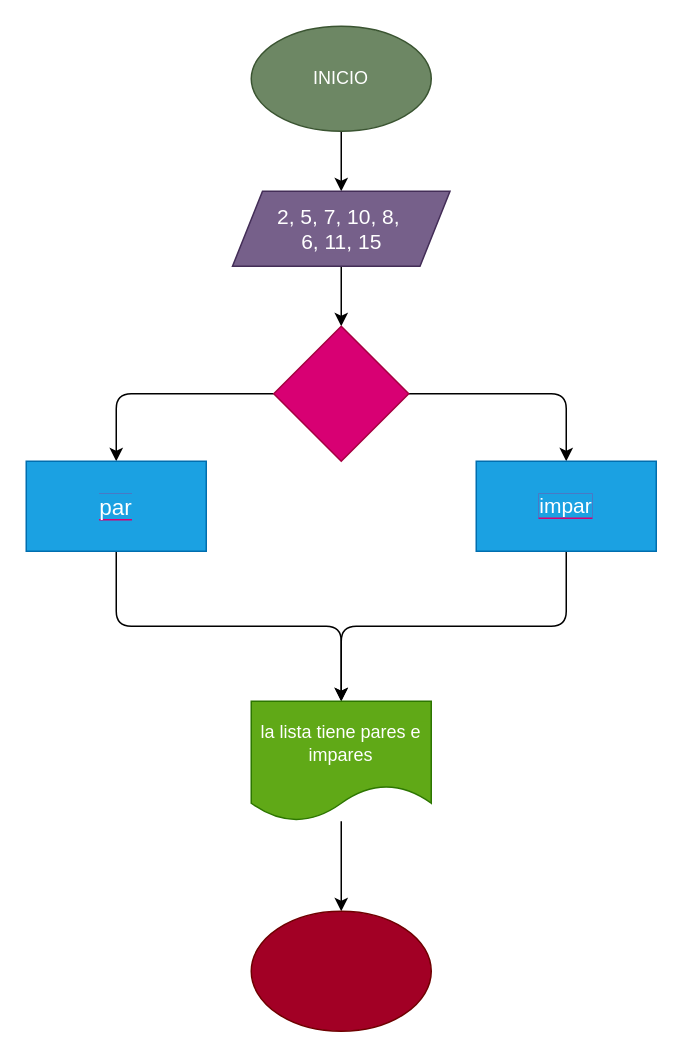
Image size: 683x1058. Some labels were removed from this diagram. Here are the shapes that lost their labels. From the top down, the centre of each, then its label:
At point 340,393: "num=0".
At point 340,970: "FIN".
